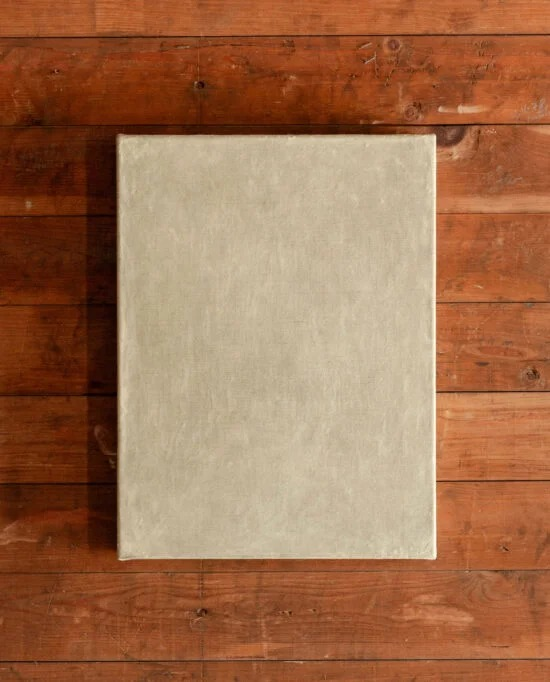painting: (116, 133, 437, 561)
